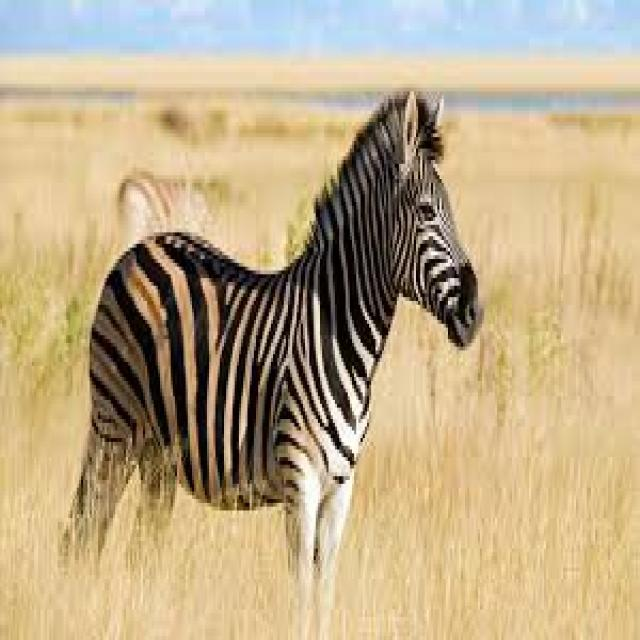Zebra: (61, 86, 484, 575)
